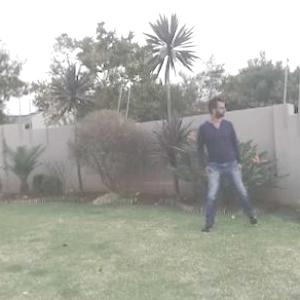follow: (200, 89, 241, 236)
